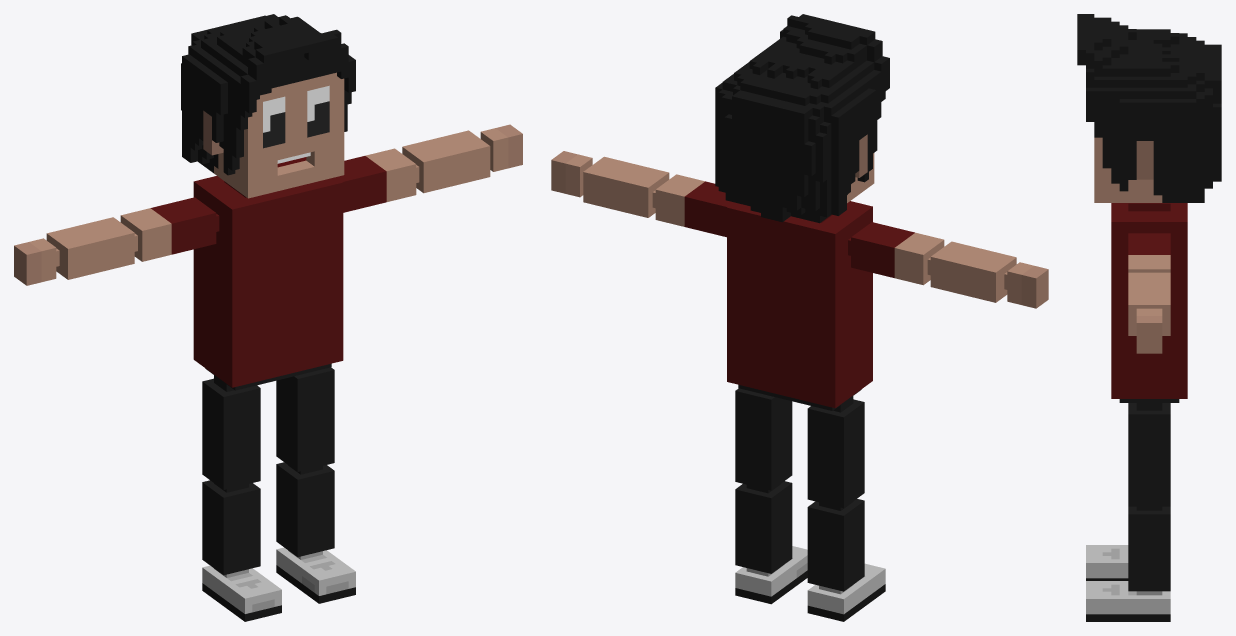
Rendered from Characters-2.obj.
The picture shows the model from 3 angles, left to right: view 1: azimuth 30°, elevation 25°; view 2: azimuth 150°, elevation 25°; view 3: azimuth 270°, elevation 25°; orthographic projection. The views are drawn at different scales.
Size of the model in its own units: 6.7 by 7.3 by 1.7.
Materials: 1 (1 with a texture image).
